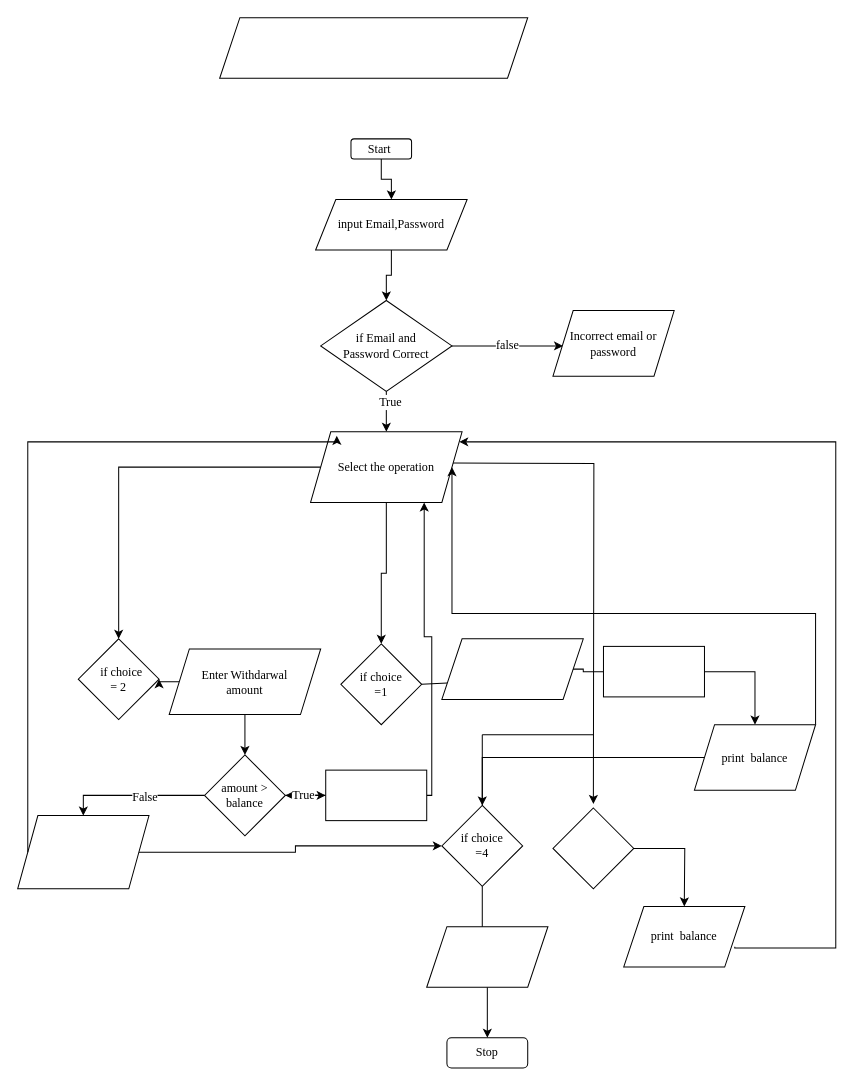
Image size: 862x1086. Some labels were removed from this diagram. Here are the shapes that lost their labels. From the top down, the centre of each, then its label:
the point at 373,47: Bank System Flow Chart Diagram
the point at 512,668: Enter depoist amount
the point at 653,671: balance = balance + amount
the point at 376,795: print Insufficient funds!
the point at 83,852: print balance - amount of withdraw
the point at 593,848: if choice =3
the point at 487,956: print logout
